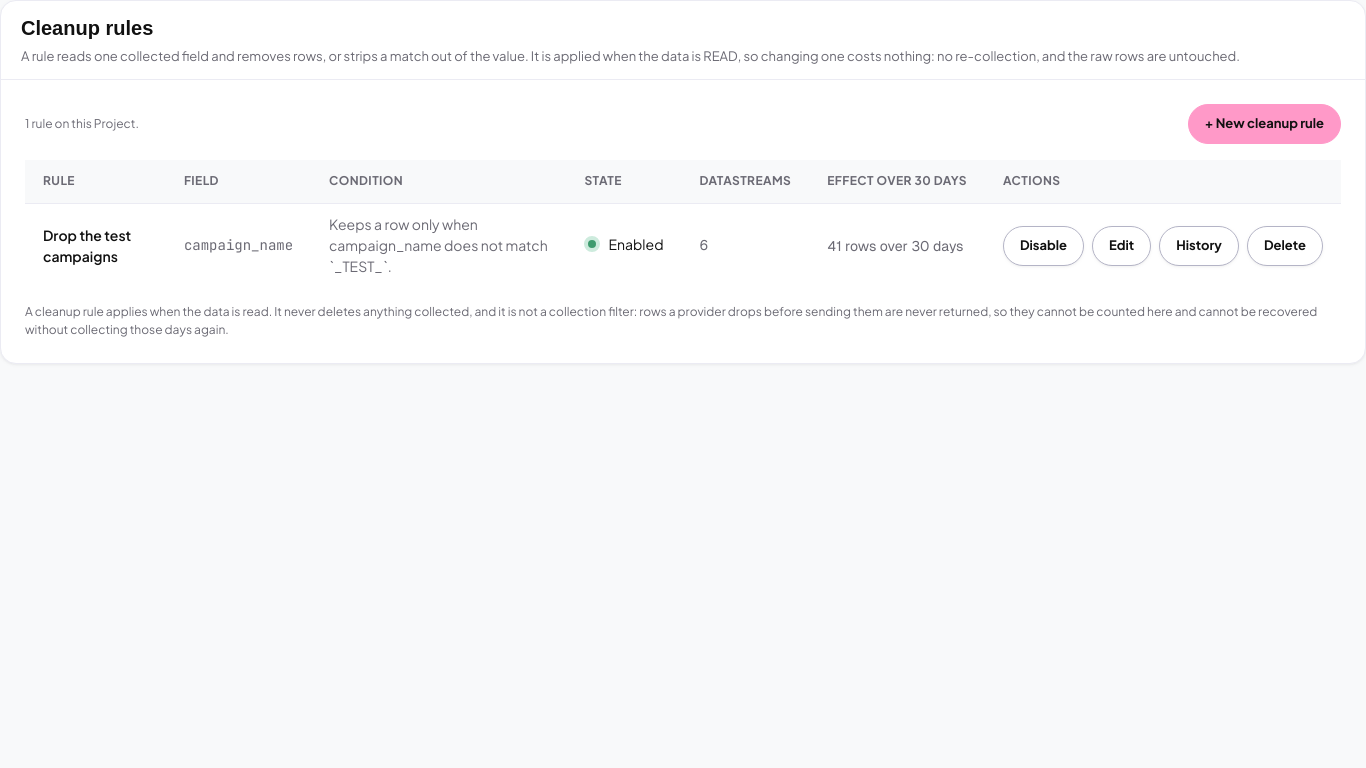
Test: the confirmation of a cleanup rule change › names the version, the hash, the Datastreams BY NAME and the scope sentence
Click the button with test id "edit-crule_1" at {"x": 1122, "y": 246}, box [1092,226,1151,266]
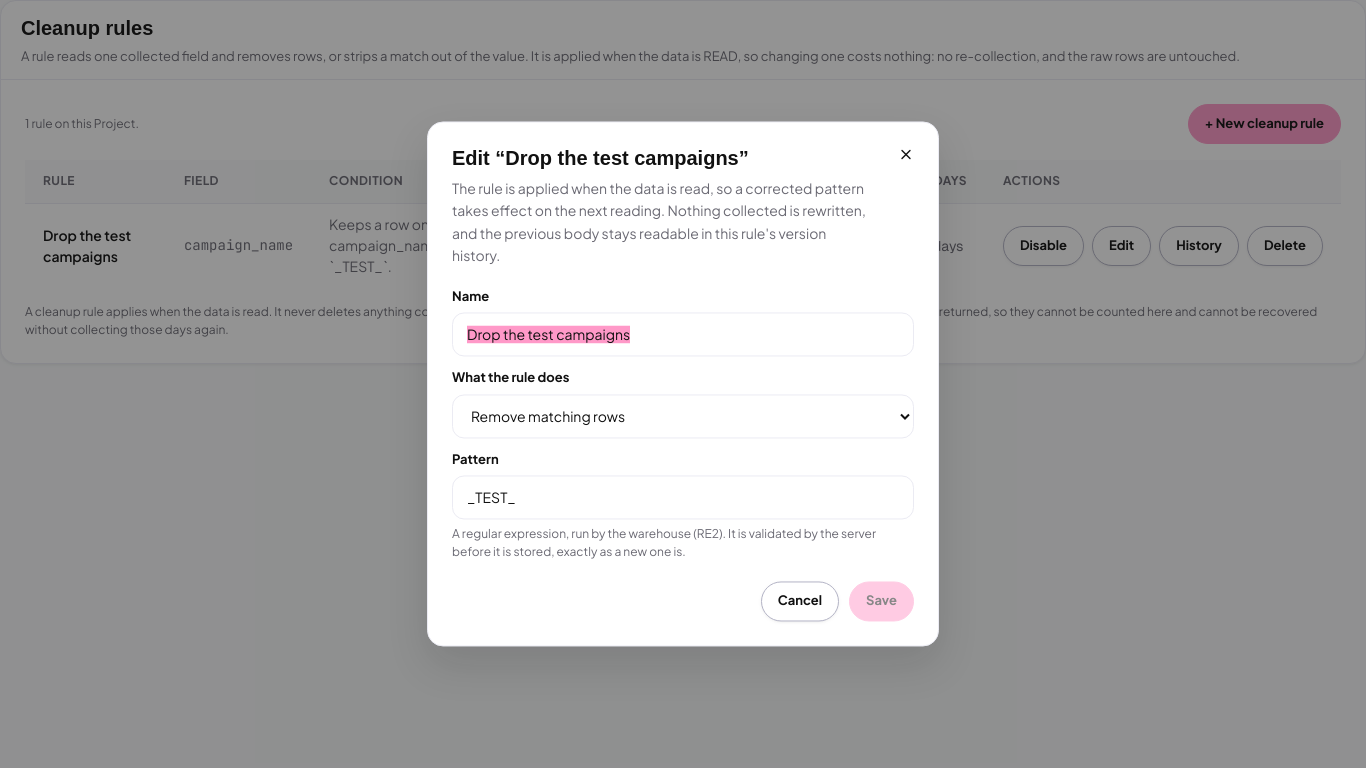
Replace the text in the field with test id "edit-rule-pattern" with "_STAGING_" at {"x": 683, "y": 498}, box [452,476,914,520]
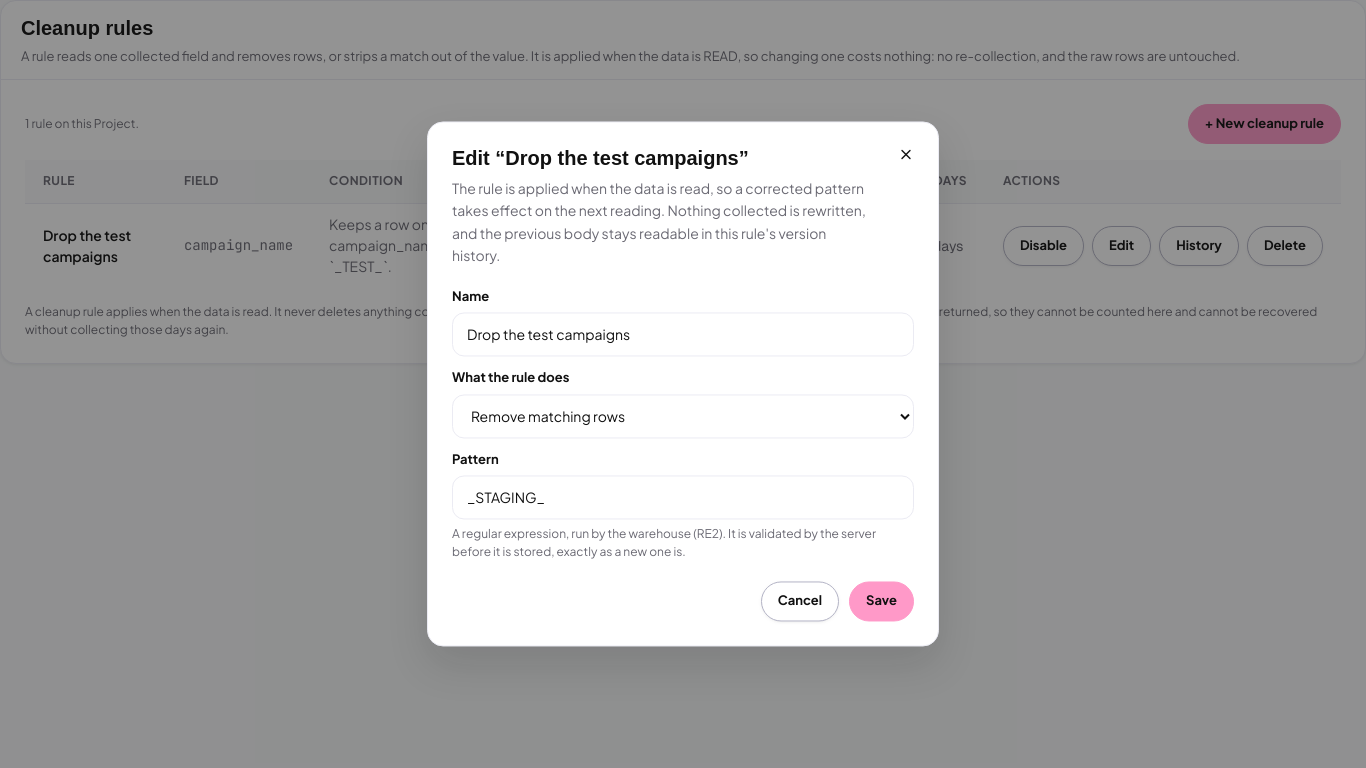
Click the button with test id "submit-rule-edit" at {"x": 882, "y": 602}, box [849,582,914,622]
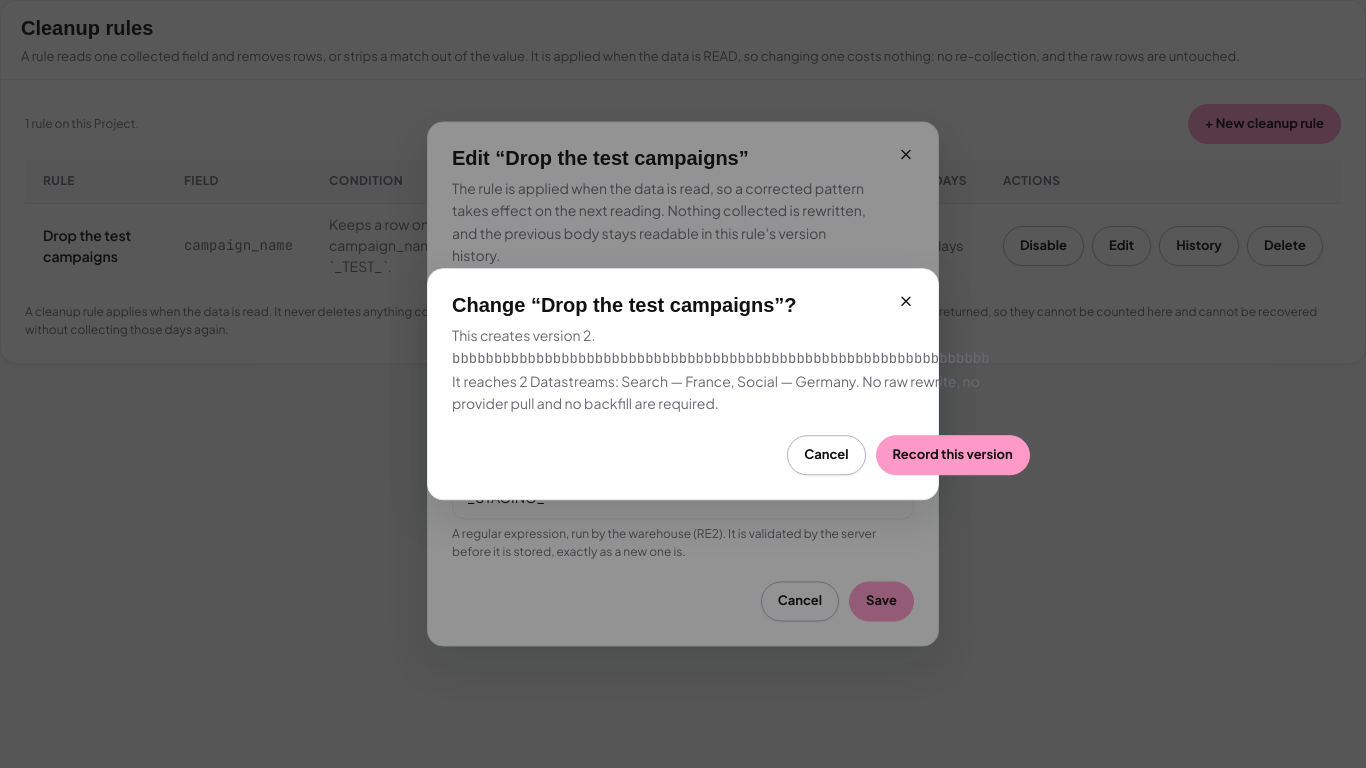
Expected: the text with test id "rule-version-confirm-version" reads "This creates version 2.", [452,326,595,344]
Expected: the text with test id "rule-version-confirm-hash" reads "bbbbbbbbbbbbbbbbbbbbbbbbbbbbbbbbbbbbbbbbbbbbbbbbbbbbbbbbbbbbbbbb", [452,350,990,368]
Expected: the text with test id "rule-version-confirm-fan-out" reads "It reaches 2 Datastreams: Search — France, Social — Germany.", [452,372,860,390]
